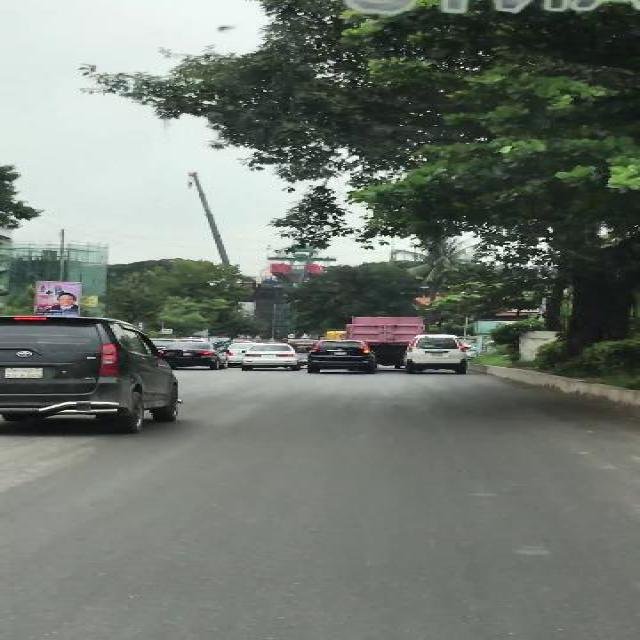car: (241, 342, 299, 371), (170, 341, 228, 369), (228, 342, 245, 366)
minivan: (402, 334, 469, 376)
suv: (0, 314, 183, 439), (304, 338, 379, 376)
truck: (343, 314, 429, 342)
